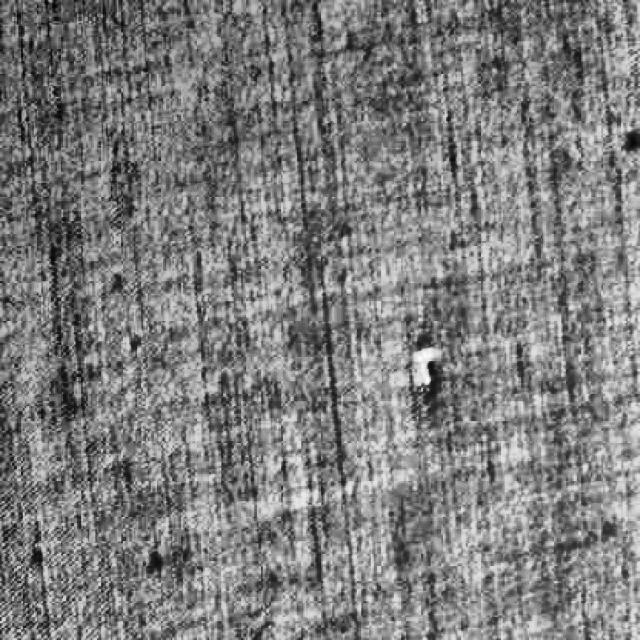hole: (404, 335, 448, 396)
